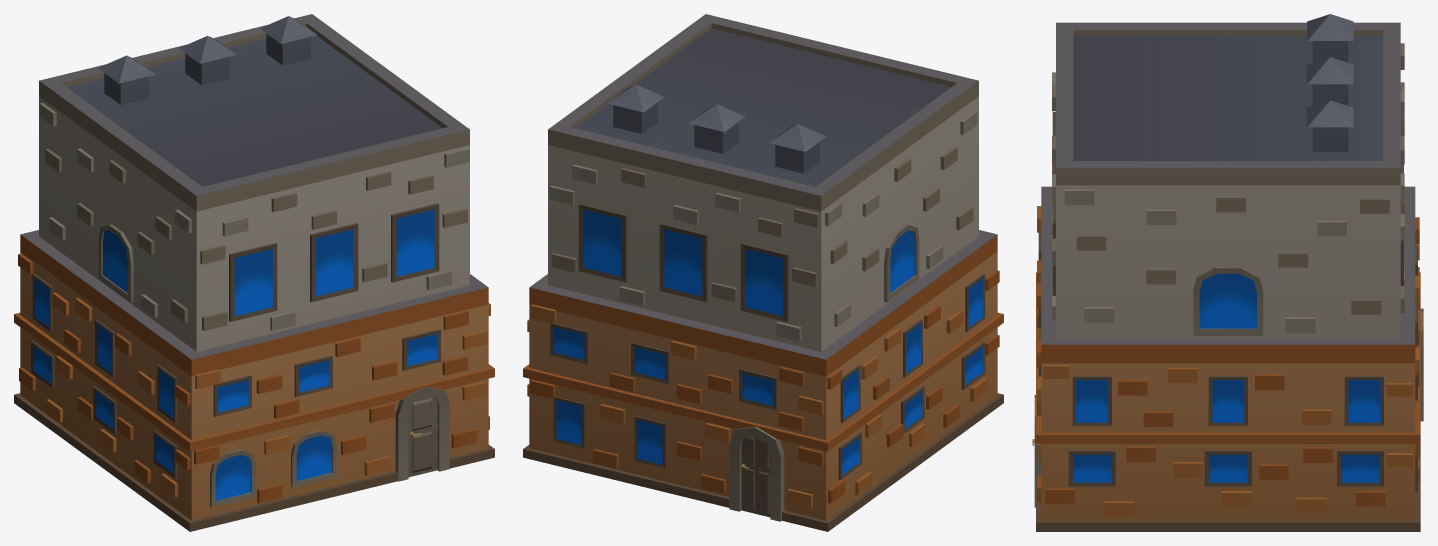
File: SM_House_16.FBX
The picture shows the model from 3 angles, left to right: view 1: azimuth 30°, elevation 25°; view 2: azimuth 150°, elevation 25°; view 3: azimuth 270°, elevation 25°; orthographic projection. The views are drawn at different scales.
Parts seen in each view (by area): view 1: SM_House_16; view 2: SM_House_16; view 3: SM_House_16.
Boxes of the visible parts, bbox=[...] form: SM_House_16: bbox=[14, 14, 494, 531]; SM_House_16: bbox=[523, 14, 1003, 531]; SM_House_16: bbox=[1032, 14, 1423, 531].
Size of what is drawn, in the model's own units: 814 by 828 by 919.
